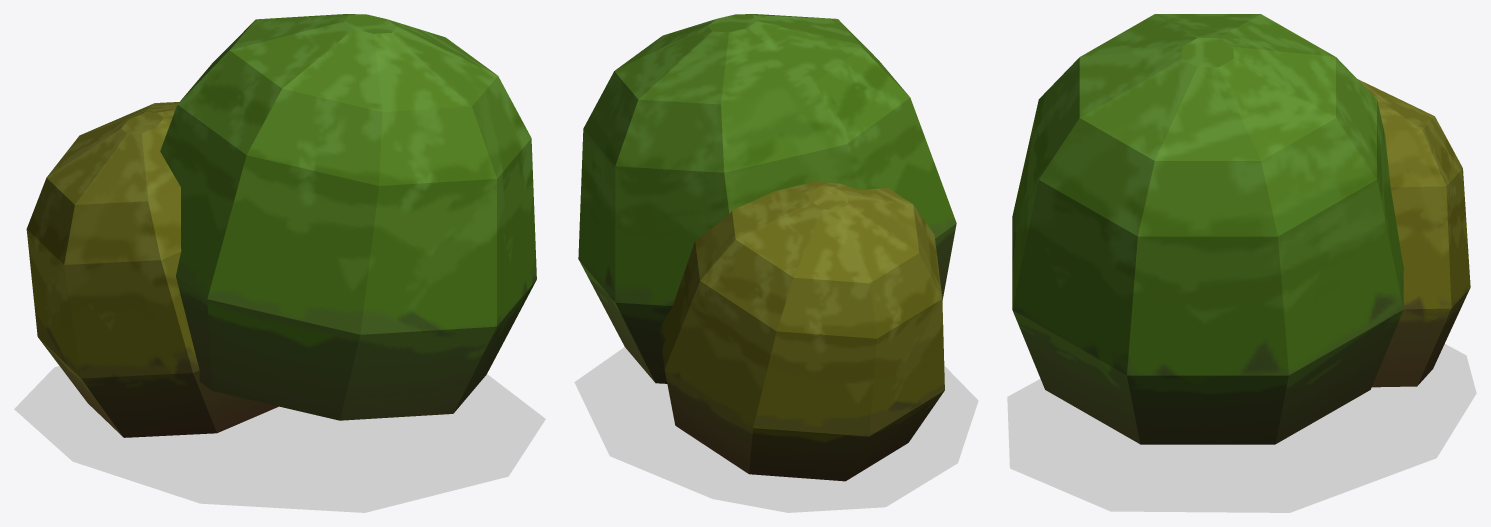
Rendered from Tree_002.fbx.
The picture shows the model from 3 angles, left to right: view 1: azimuth 30°, elevation 25°; view 2: azimuth 150°, elevation 25°; view 3: azimuth 270°, elevation 25°; orthographic projection. The views are drawn at different scales.
Parts seen in each view (by area): view 1: Tree_002_01, Tree_002_02, Shadow; view 2: Tree_002_01, Tree_002_02, Shadow; view 3: Tree_002_01, Shadow, Tree_002_02.
Part boxes in pixels (<box>): Tree_002_01: <box>160,14,536,420</box>; Tree_002_02: <box>26,102,278,437</box>; Shadow: <box>14,366,545,512</box>; Tree_002_01: <box>578,14,956,383</box>; Tree_002_02: <box>659,182,944,481</box>; Shadow: <box>574,347,978,512</box>; Tree_002_01: <box>1012,14,1403,444</box>; Shadow: <box>1007,344,1476,512</box>; Tree_002_02: <box>1358,79,1470,387</box>.
Size of the model in its own units: 200 by 188 by 200.
Materials: 2 (1 with a texture image).
